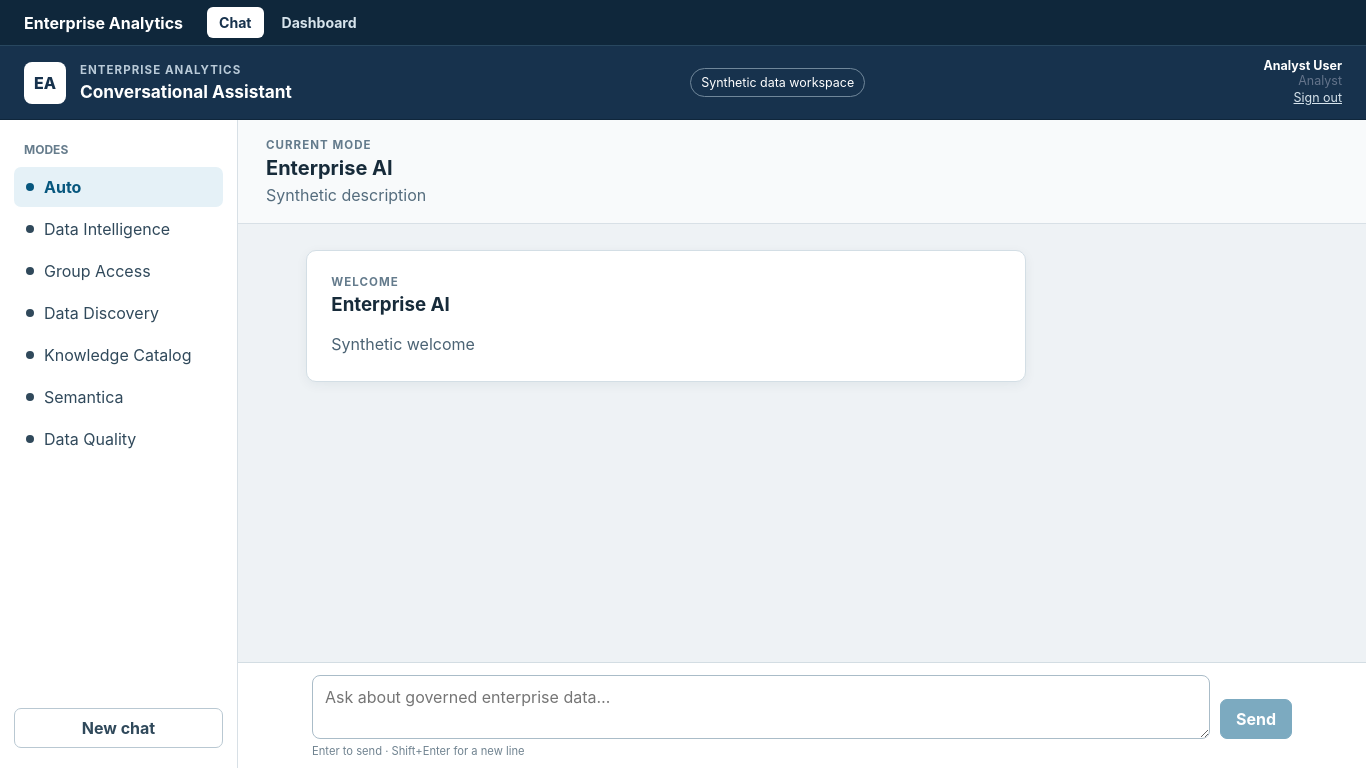
Test case: authentication and permission-aware UI › 403 chat response renders only the safe permission error
expect the text "Analyst User" is shown: met, box [1264,58,1342,73]
Type "Restricted operation" into the text box named "Message" at (761, 707), box [312,675,1210,739]
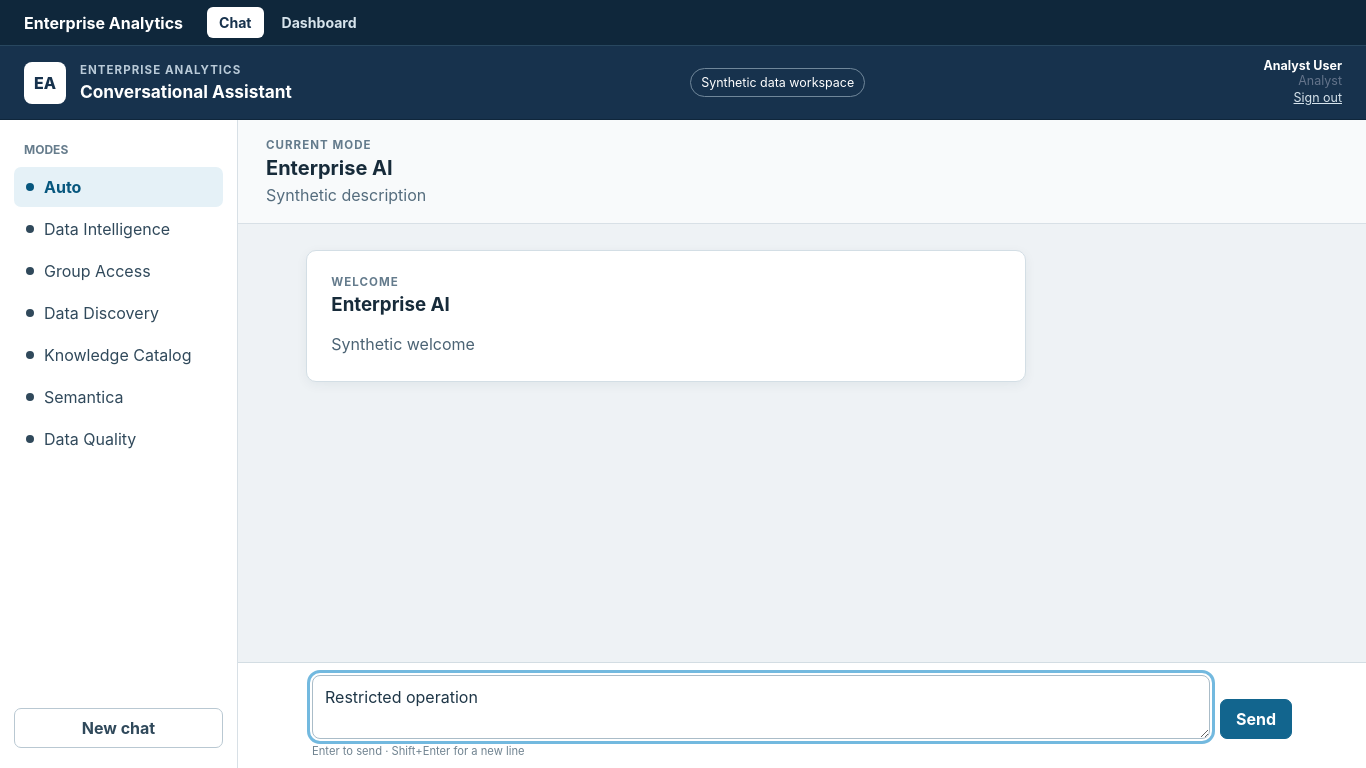
Click the button "Send" at (1256, 719), box [1220,699,1292,739]
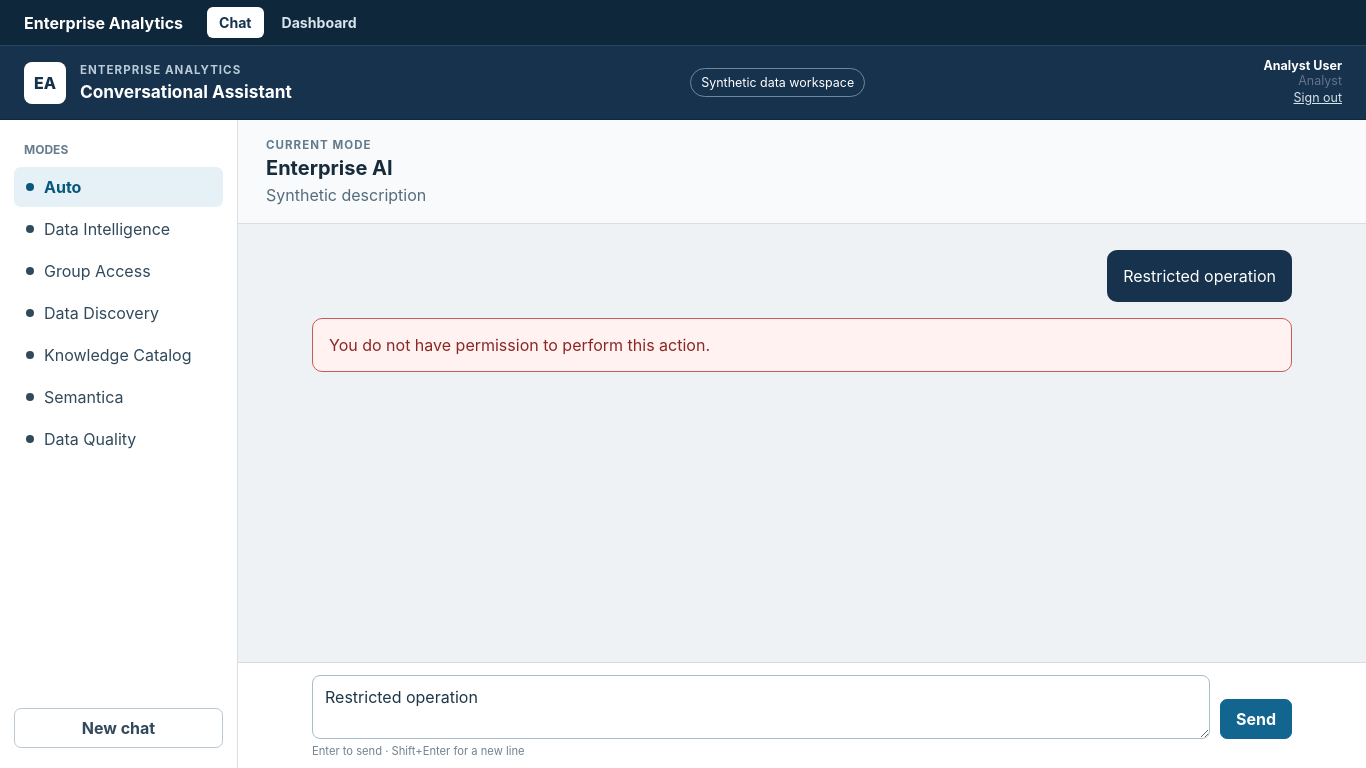
expect the message reads "You do not have permission to perform this action.": met, box [329,335,710,355]
